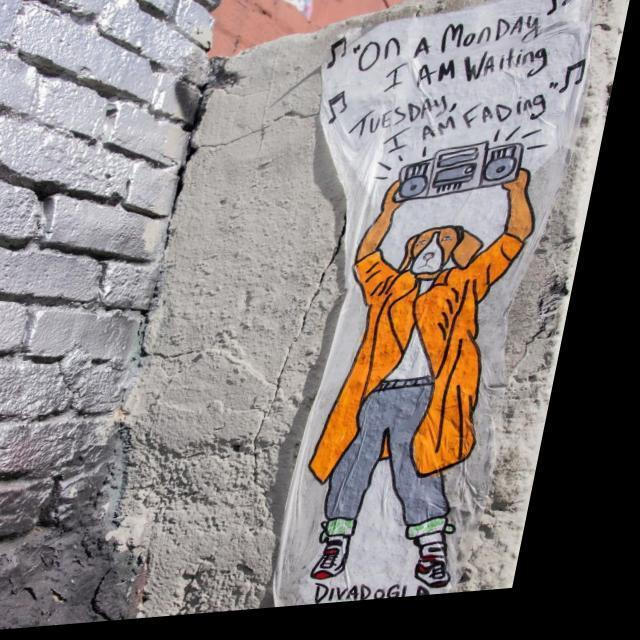nonspitting: (326, 0, 585, 154), (312, 582, 429, 602)
spitting: (303, 138, 535, 584)
